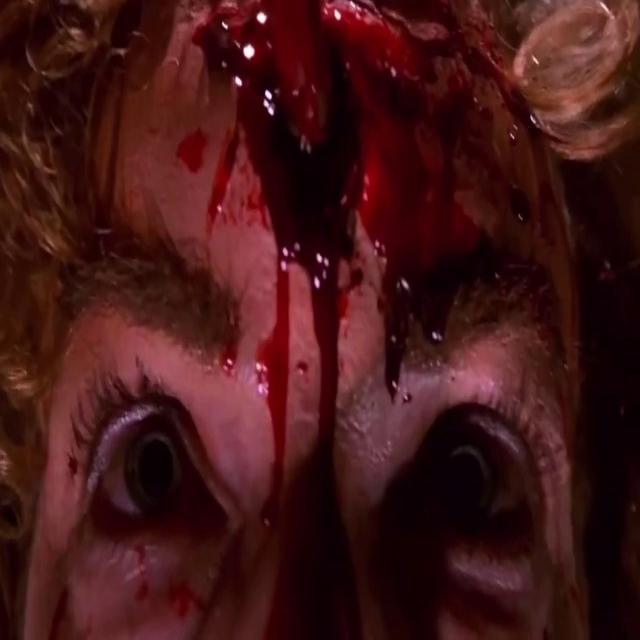flood: (222, 22, 382, 292)
